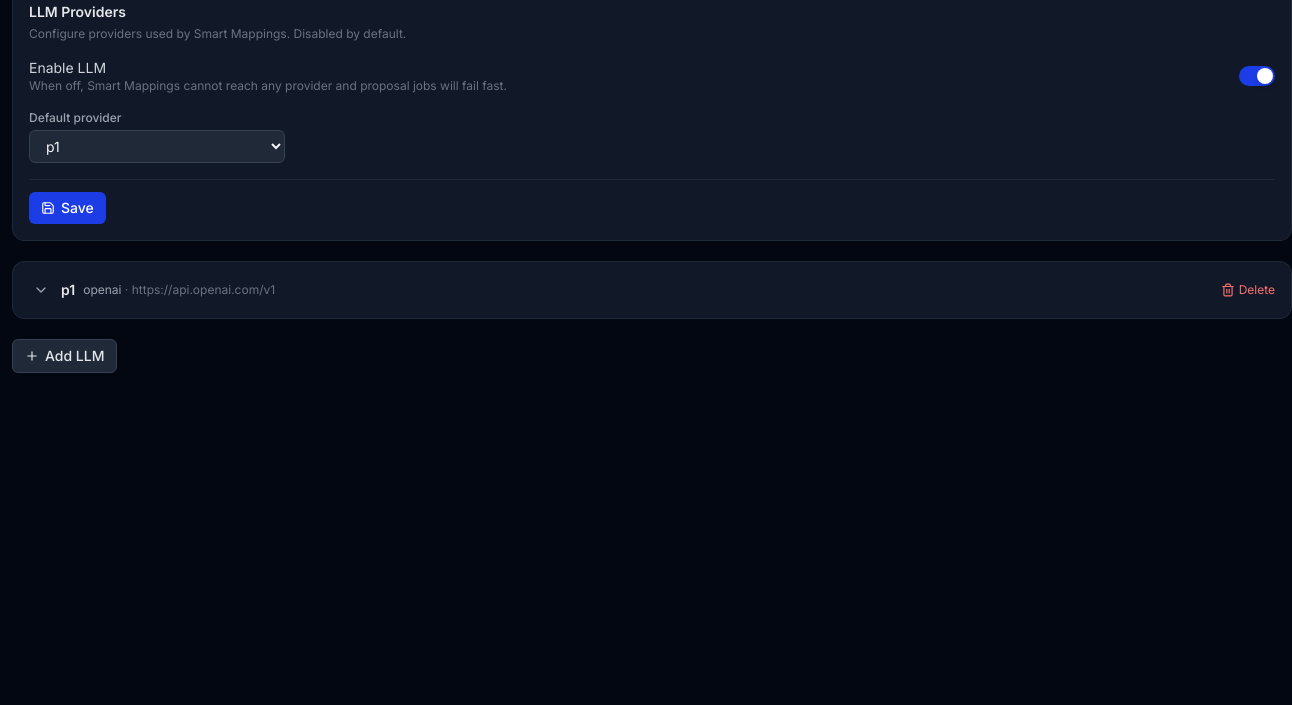
Test: LLMProvidersTab › TLS-skip checkbox renders the warning text when checked
Step 1. Click the button named "Expand p1" → point(41, 290), box [29,278,53,302]
(page scrolled)
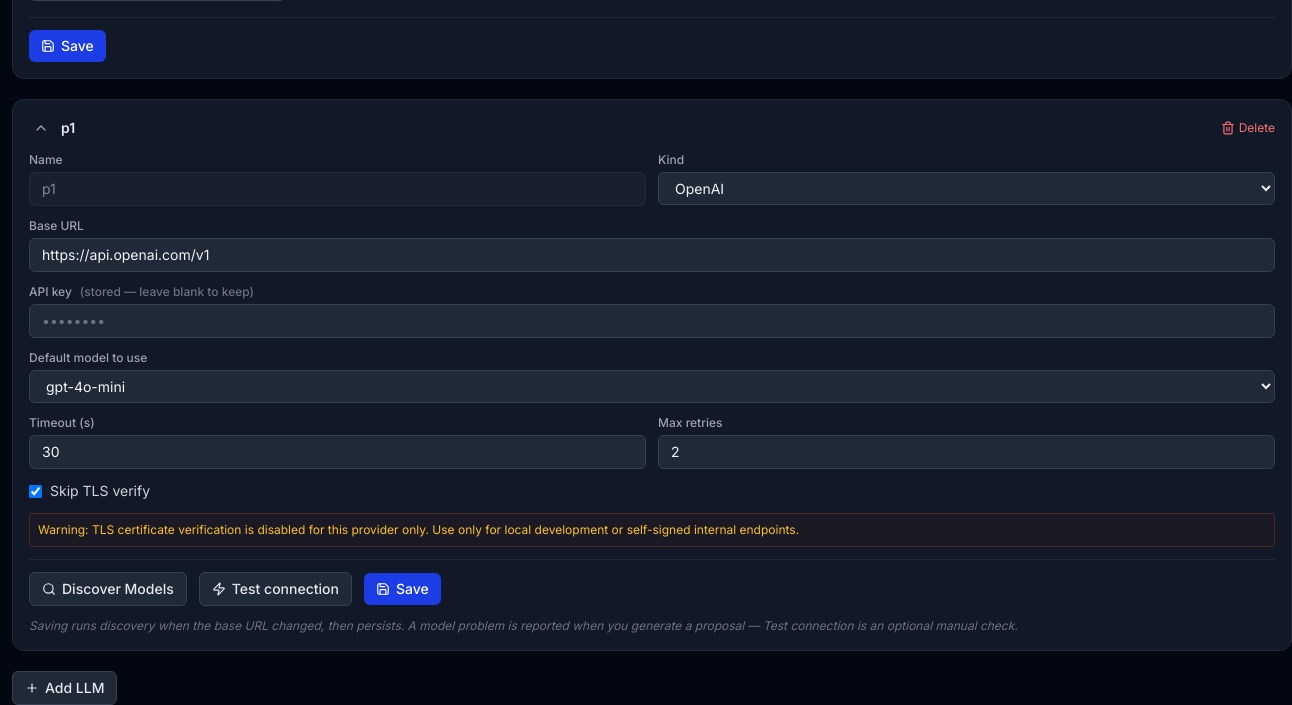
Now the text "TLS certificate verification is disabled" is shown, box [38,522,799,537]
